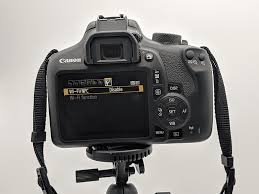camera: (48, 17, 212, 149)
